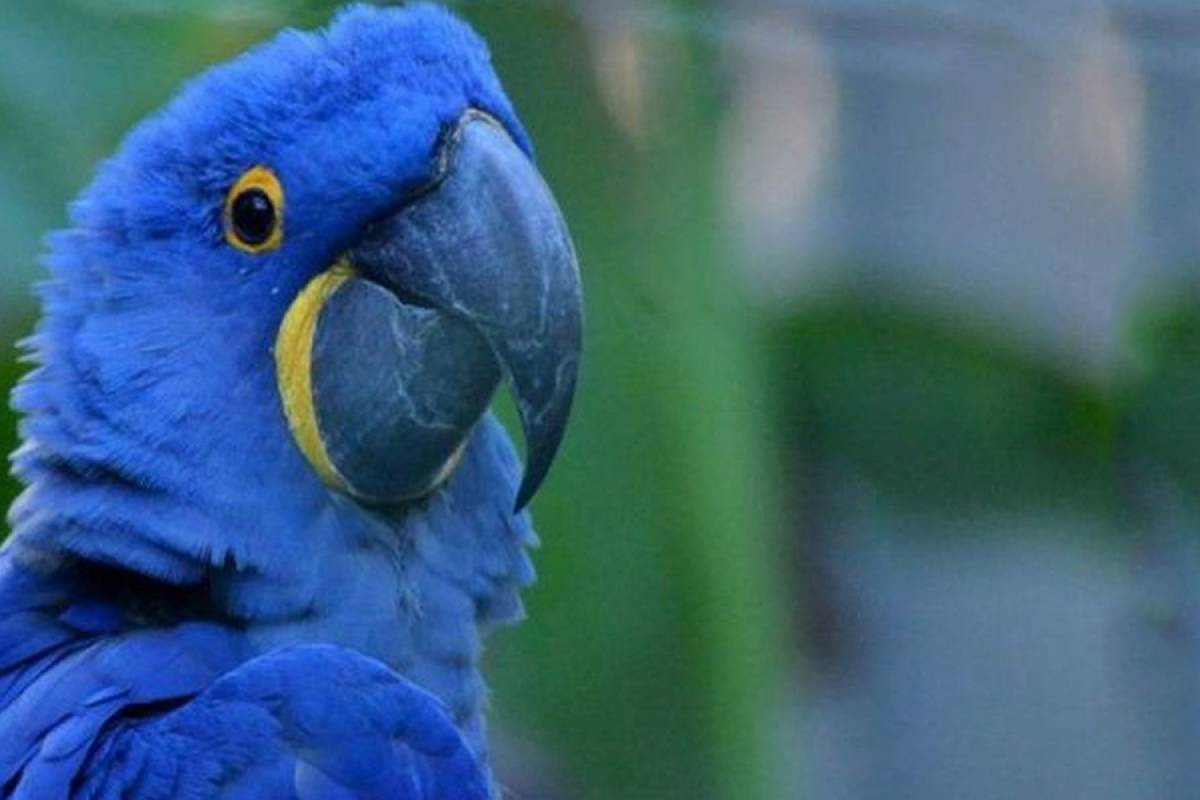guacamaya: (1, 3, 592, 660)
